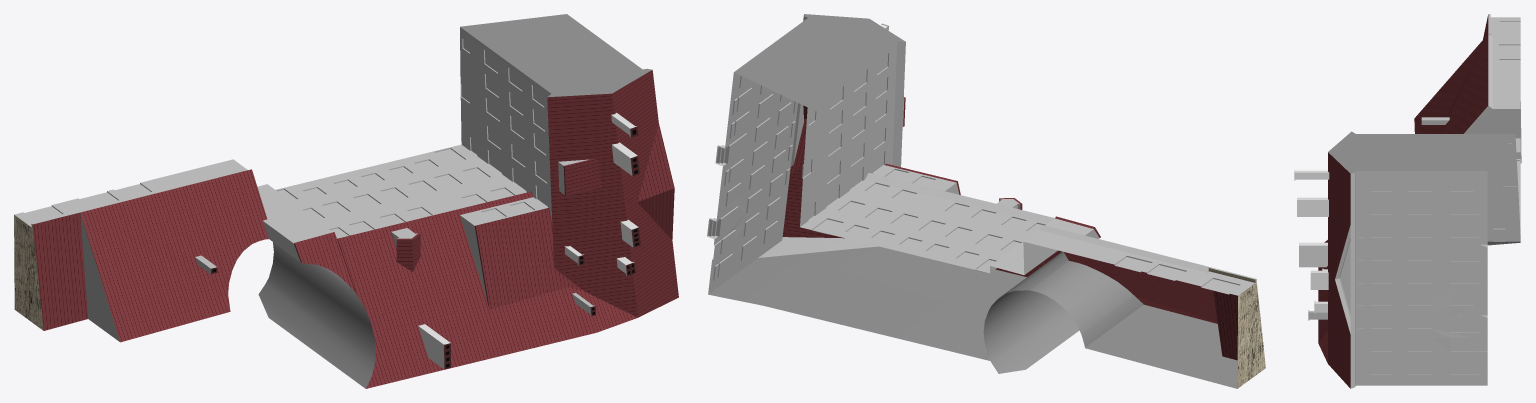
File: Toom-Kooli_9.obj
3 renders of one model, left to right at view 1: azimuth 30°, elevation 25°; view 2: azimuth 150°, elevation 25°; view 3: azimuth 270°, elevation 25°, orthographic. The views are drawn at different scales.
Parts seen in each view (by area): view 1: Toom_Kooli_9; view 2: Toom_Kooli_9; view 3: Toom_Kooli_9.
Part boxes in pixels (x1,y1,x2,y2): Toom_Kooli_9: [14, 14, 678, 388]; Toom_Kooli_9: [707, 14, 1265, 388]; Toom_Kooli_9: [1294, 14, 1521, 388].
Size of the model in its own units: 53.31 by 21.02 by 21.22.
